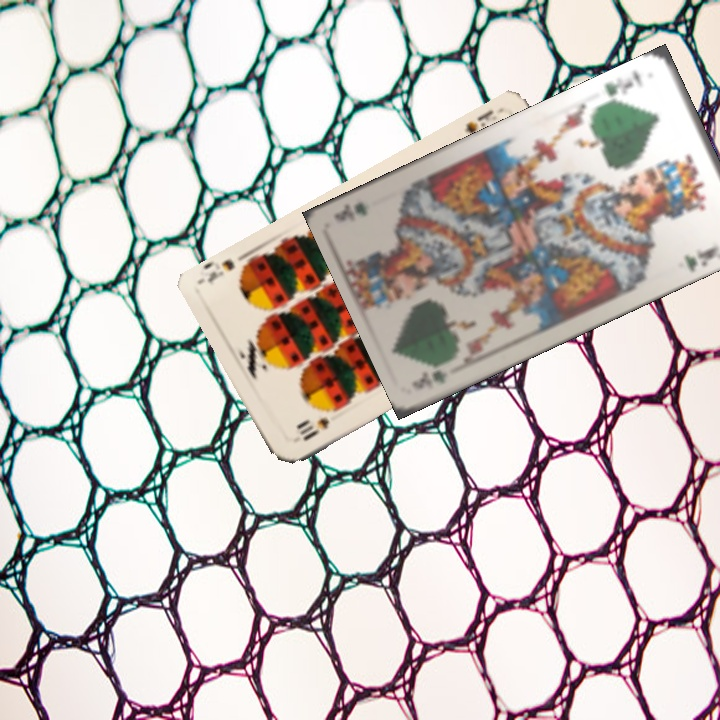GK: (599, 66, 646, 107), (409, 366, 450, 389)
S10: (461, 104, 505, 136), (295, 414, 332, 444)
